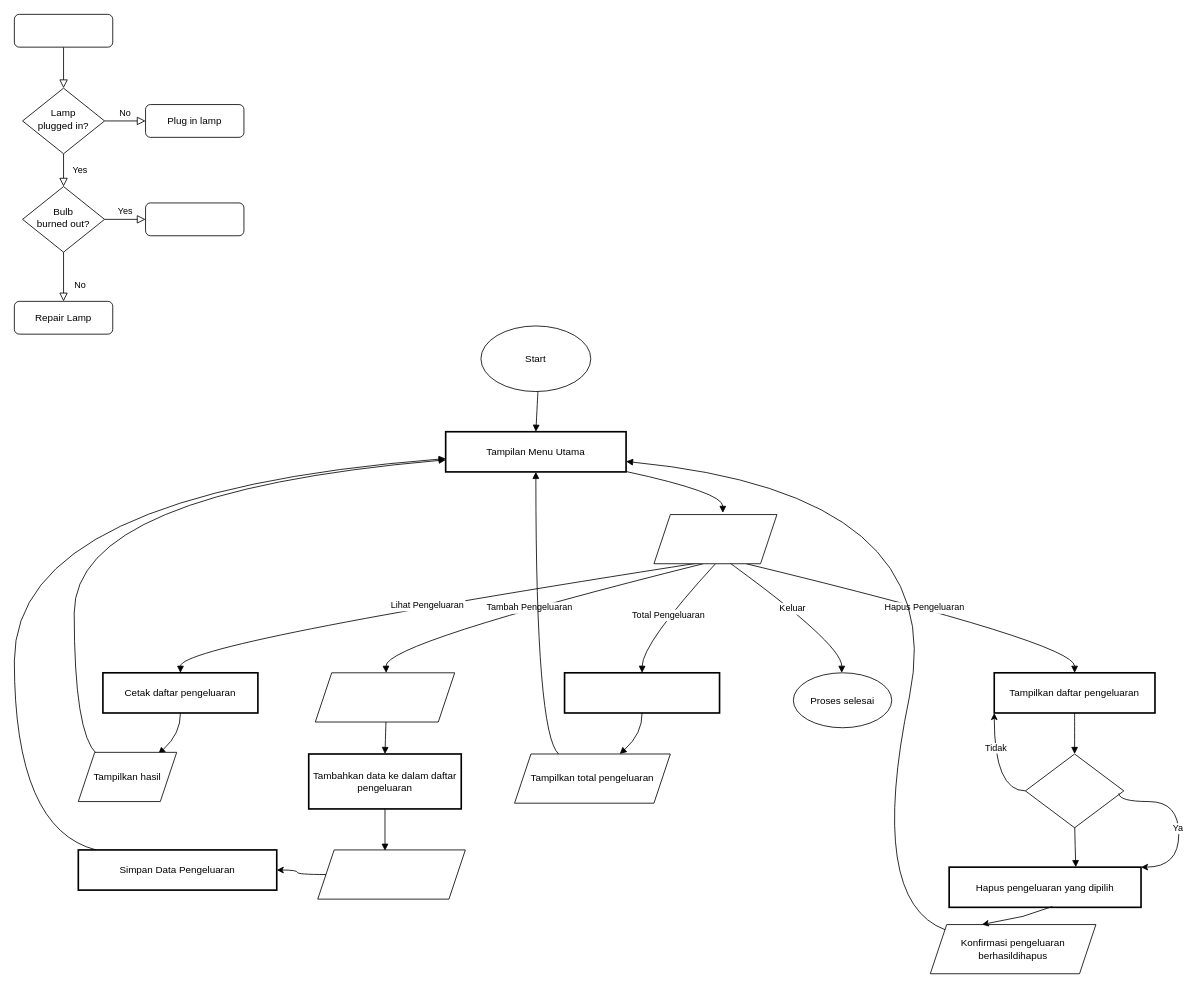
This 1197x988 diagram has some shape labels left out. The box of each missing label's shape, as (x1, y1, x2, y2) in pixels:
Apakah daftar kosong?: (1025, 753, 1124, 828)
Hitung total pengeluaran: (563, 672, 720, 713)
Input deskripsi, jumlah, dan tanggal pengeluaran: (314, 672, 455, 722)
Konfirmasi pengeluaran: (317, 849, 465, 899)
Lamp doesn't work: (14, 14, 113, 47)
Pilih pengguna: (653, 514, 777, 564)
Replace Bulb: (145, 202, 244, 236)
